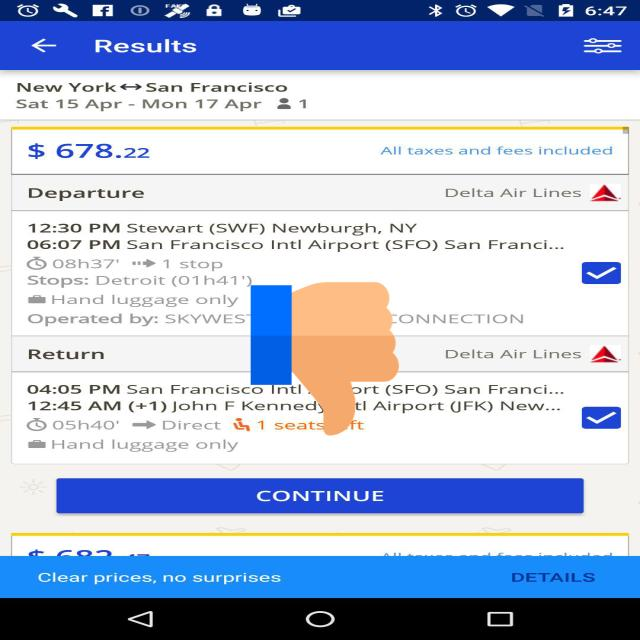obstruction: (251, 278, 398, 440)
